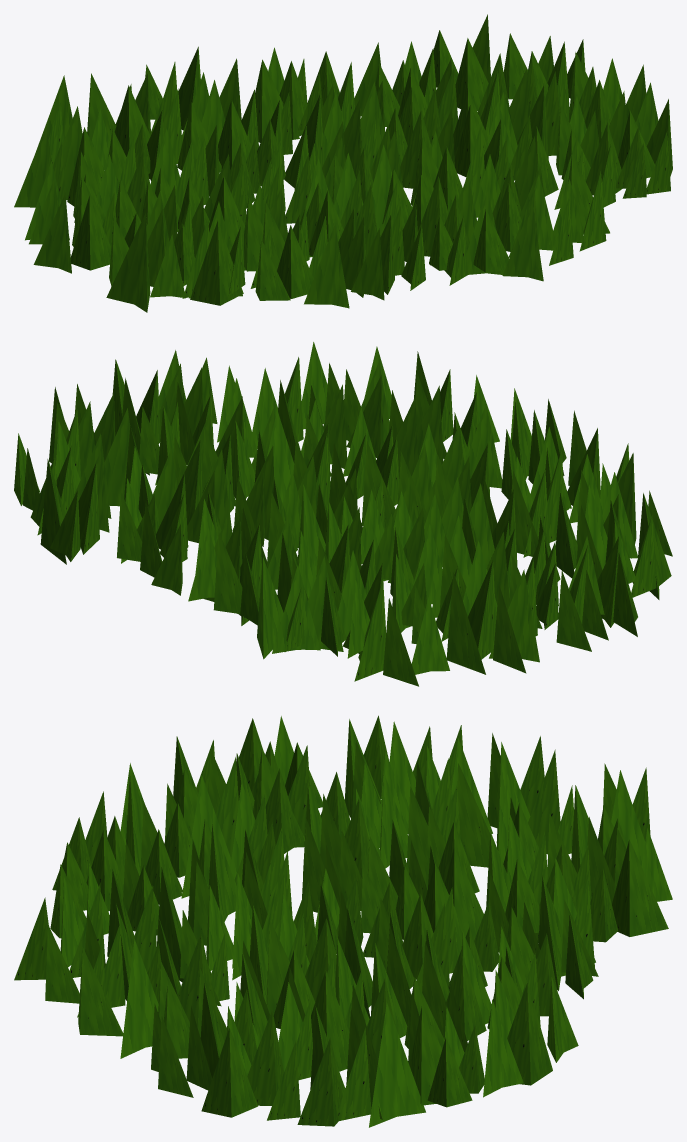
The model's file is Grass.fbx.
3 views of the same model, one above another, from view 1: azimuth 30°, elevation 25°; view 2: azimuth 150°, elevation 25°; view 3: azimuth 270°, elevation 25° (orthographic). The views are drawn at different scales.
Visible parts, largest first — view 1: Cylinder; view 2: Cylinder; view 3: Cylinder.
Boxes of the visible parts, box(x1,y1,x2,y2) form: Cylinder: box(14, 14, 672, 312); Cylinder: box(14, 342, 672, 686); Cylinder: box(14, 715, 672, 1127).
Bounding box in the file's own units: 286 × 44.82 × 229.
